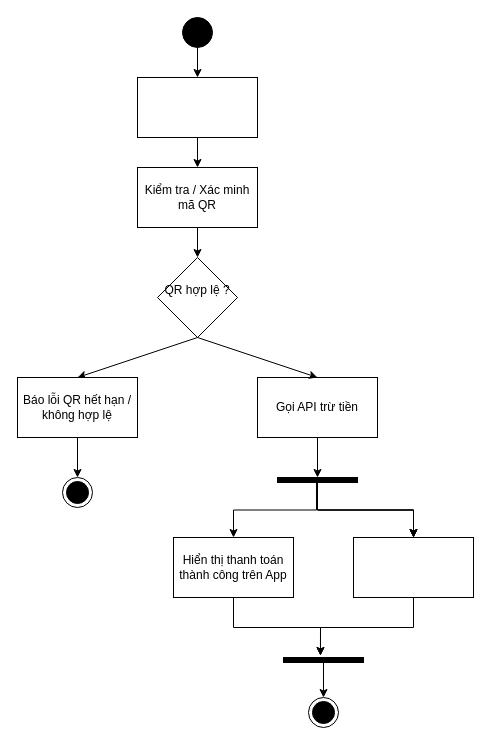
The diagram is 491 pixels wide and 745 high, and some of its shapes have lost their labels. The centre of each missing label's shape, as x and y in pixels:
"Gửi email biên lai (chạy ngầm)" goes at pixel 413 567.
"Khách hàng quét mã QR Momo/VNPay" goes at pixel 197 107.
